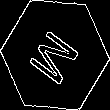M_SE: (25, 22, 85, 88)
